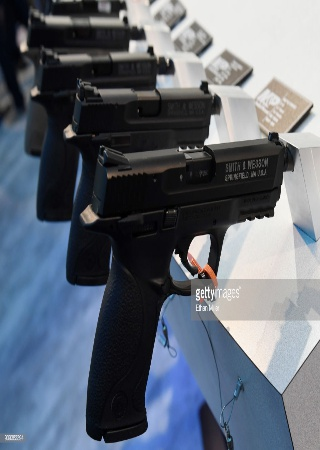handgun: (86, 133, 273, 442), (70, 74, 221, 144), (31, 41, 169, 94)
